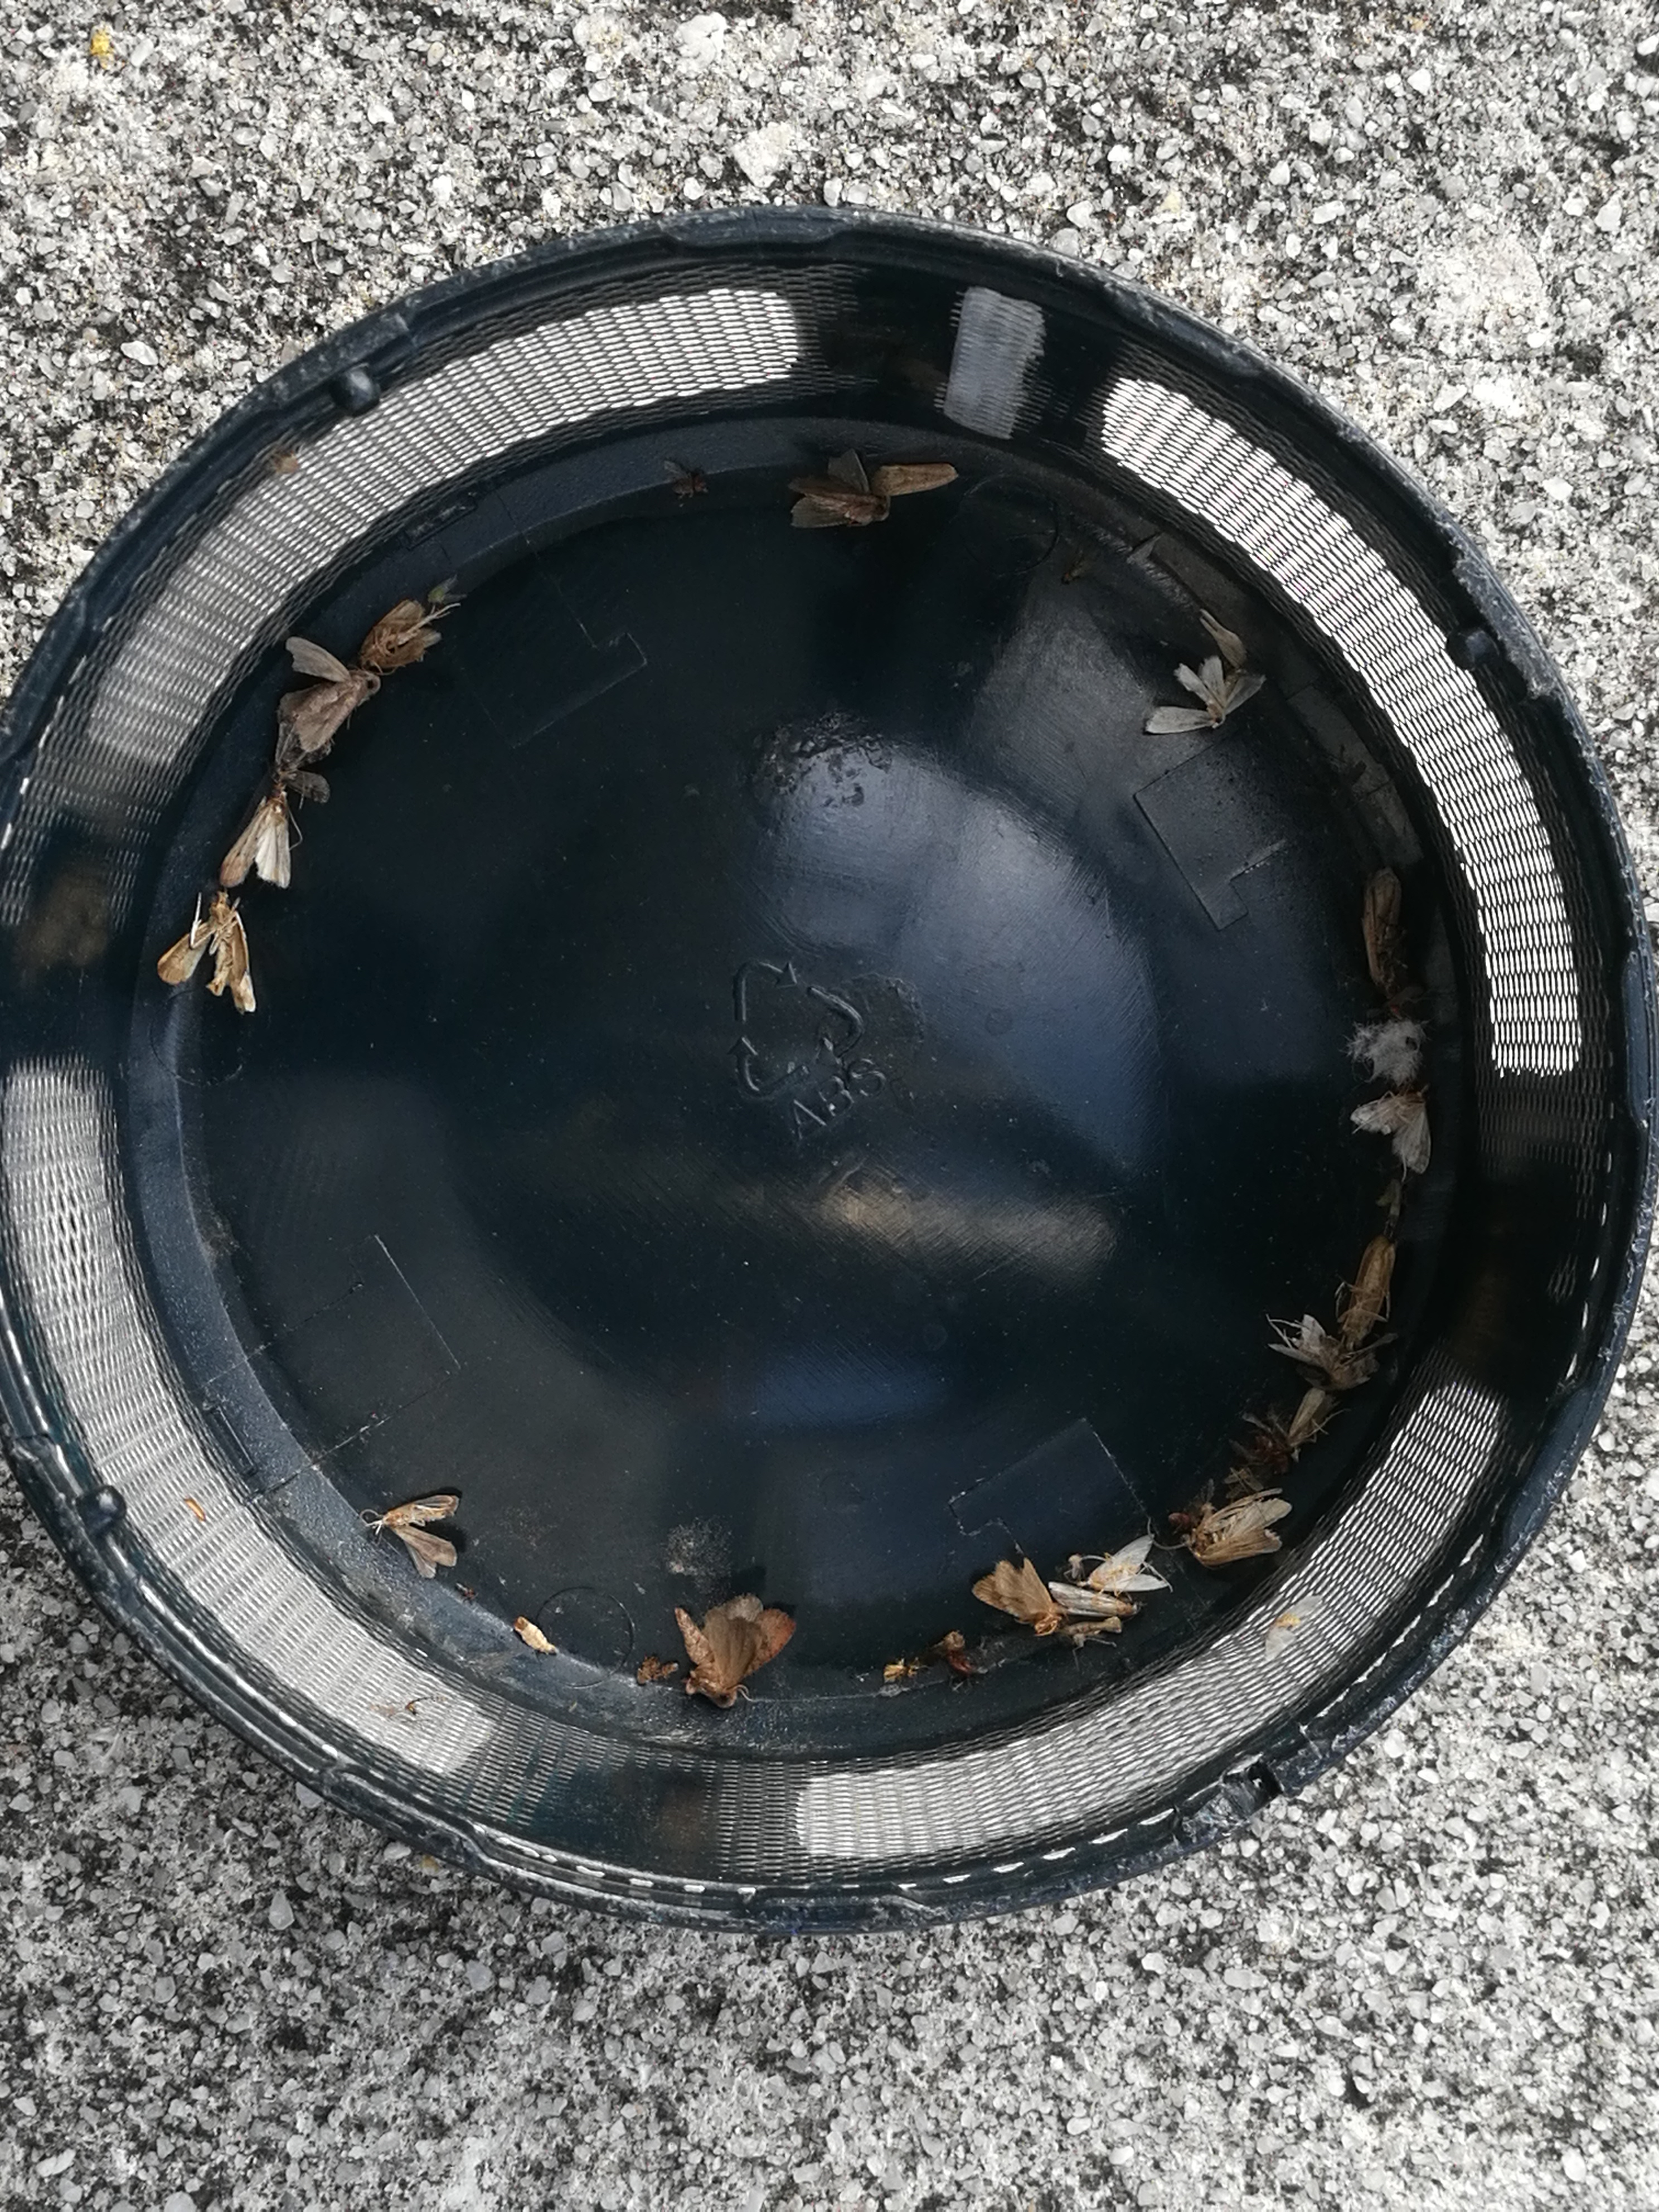mosquito: (1347, 1238, 1394, 1345), (1366, 869, 1403, 995)
moth: (674, 1594, 795, 1707), (159, 897, 256, 1010), (291, 636, 378, 756), (1147, 658, 1265, 733), (1190, 1489, 1293, 1564), (788, 453, 889, 526), (220, 786, 288, 888), (382, 1496, 458, 1578), (1354, 1094, 1431, 1176), (974, 1559, 1058, 1632), (357, 599, 443, 665), (1086, 1536, 1166, 1588), (1272, 1315, 1337, 1371), (1053, 1585, 1136, 1616), (1288, 1392, 1335, 1446)
